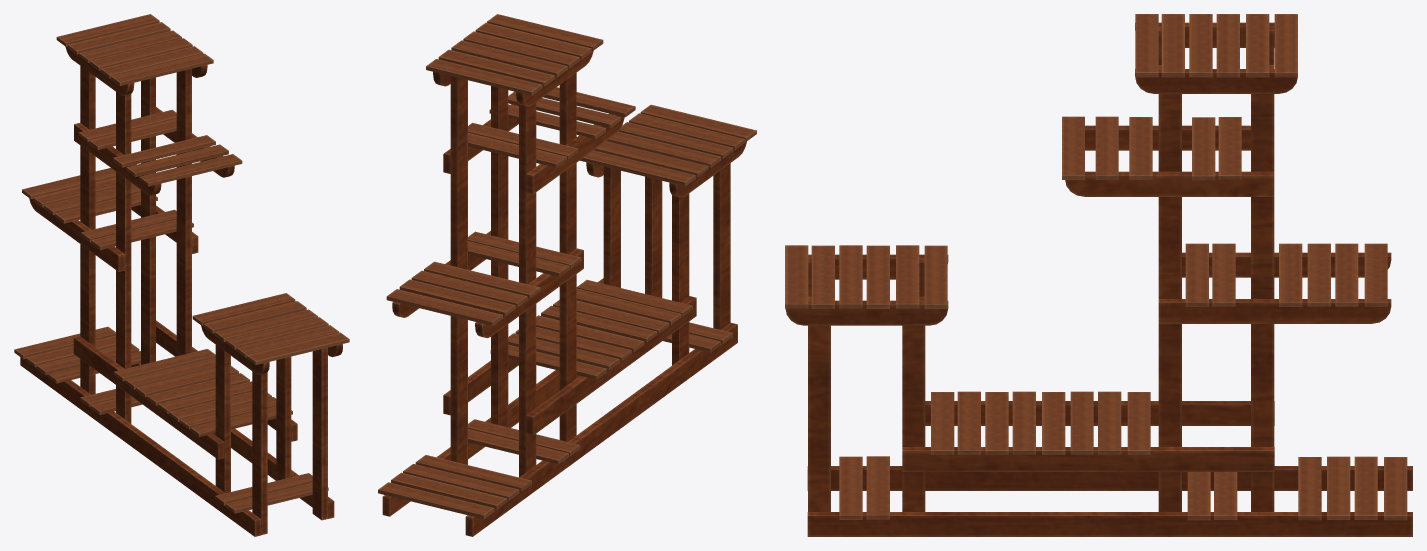
File: mk_peg_stand.glb
3 renders of one model, left to right at view 1: azimuth 30°, elevation 25°; view 2: azimuth 150°, elevation 25°; view 3: azimuth 270°, elevation 25°, orthographic. The views are drawn at different scales.
Visible parts, largest first — view 1: mesh; view 2: mesh; view 3: mesh.
Part boxes in pixels (<box>): mesh: <box>14,14,349,536</box>; mesh: <box>378,14,756,536</box>; mesh: <box>785,14,1412,536</box>.
Size of the model in its own units: 0.1055 by 0.39 by 0.4741.
Materials: 1 (1 with a texture image).
